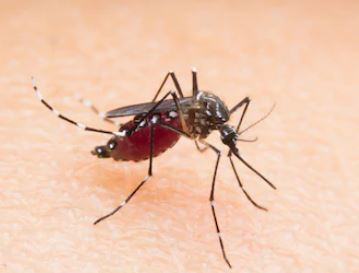dengue_mosquito: (44, 68, 277, 211)
